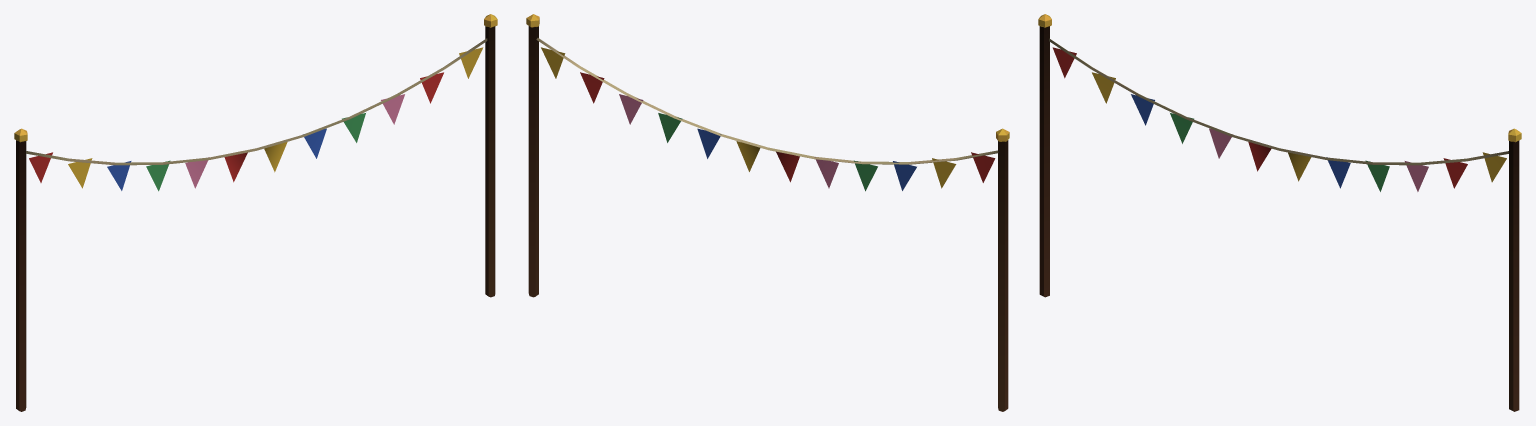
File: Meadow_Bunting.fbx
The picture shows the model from 3 angles, left to right: view 1: azimuth 30°, elevation 25°; view 2: azimuth 150°, elevation 25°; view 3: azimuth 330°, elevation 25°; orthographic projection.
Visible parts, largest first — view 1: Meadow_Bunting; view 2: Meadow_Bunting; view 3: Meadow_Bunting.
Part boxes in pixels (x1=…): Meadow_Bunting: x1=14, y1=14, x2=497, y2=411; Meadow_Bunting: x1=526, y1=14, x2=1009, y2=411; Meadow_Bunting: x1=1038, y1=14, x2=1521, y2=411.
Size of the model in its own units: 8.2 by 4.62 by 0.2018.
